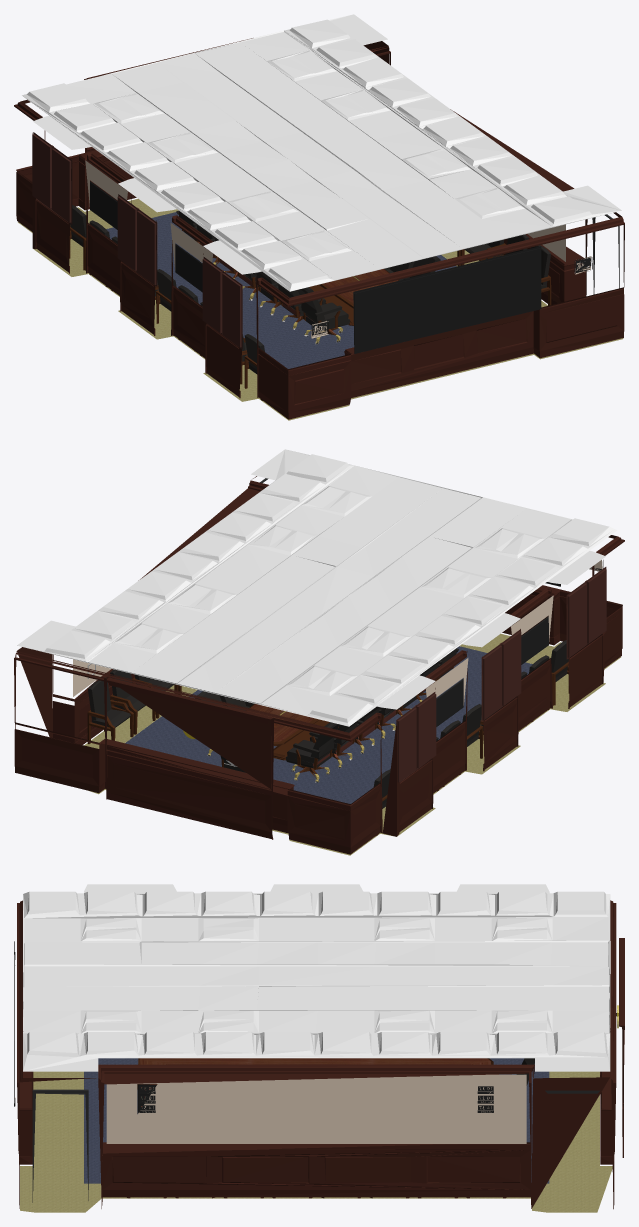
Rendered from SituationRoom.glb.
The picture shows the model from 3 angles, top to bottom: view 1: azimuth 30°, elevation 25°; view 2: azimuth 150°, elevation 25°; view 3: azimuth 270°, elevation 25°; orthographic projection. The views are drawn at different scales.
Parts seen in each view (by area): view 1: __0129_WhiteSmoke_3, _0042_Sienna, _0137_Black, _0040_Peru, __Carpet_Plush_Charcoal_1, __0132_LightGray_2, Carpet_Plush_Charcoal, _0012_Bisque, material_1, _0136_Charcoal, Wood_Grain_Stain3; view 2: __0129_WhiteSmoke_3, _0042_Sienna, __Carpet_Plush_Charcoal_1, _0040_Peru, __0132_LightGray_2, Carpet_Plush_Charcoal, material_1, _0012_Bisque, _0136_Charcoal, Wood_Grain_Stain3; view 3: __0129_WhiteSmoke_3, _0042_Sienna, _0012_Bisque, Carpet_Plush_Charcoal, __Carpet_Plush_Charcoal_1, Wood_Grain_Stain3, _0135_DarkGray, _0136_Charcoal.
Part boxes in pixels (<box>): __0129_WhiteSmoke_3: <box>22,14,621,291</box>; _0042_Sienna: <box>14,38,624,419</box>; _0137_Black: <box>175,244,592,353</box>; _0040_Peru: <box>32,132,242,349</box>; __Carpet_Plush_Charcoal_1: <box>106,212,456,368</box>; __0132_LightGray_2: <box>70,205,550,374</box>; Carpet_Plush_Charcoal: <box>18,198,623,420</box>; _0012_Bisque: <box>85,160,591,338</box>; material_1: <box>69,225,551,400</box>; _0136_Charcoal: <box>90,181,590,335</box>; Wood_Grain_Stain3: <box>324,269,398,303</box>; __0129_WhiteSmoke_3: <box>17,449,616,726</box>; _0042_Sienna: <box>14,476,624,854</box>; __Carpet_Plush_Charcoal_1: <box>125,646,532,803</box>; _0040_Peru: <box>396,567,606,782</box>; __0132_LightGray_2: <box>88,640,568,808</box>; Carpet_Plush_Charcoal: <box>84,633,620,855</box>; material_1: <box>87,662,569,835</box>; _0012_Bisque: <box>73,560,602,705</box>; _0136_Charcoal: <box>436,616,548,726</box>; Wood_Grain_Stain3: <box>247,704,314,741</box>; __0129_WhiteSmoke_3: <box>23,884,610,1071</box>; _0042_Sienna: <box>17,900,624,1209</box>; _0012_Bisque: <box>15,965,526,1143</box>; Carpet_Plush_Charcoal: <box>20,1071,612,1212</box>; __Carpet_Plush_Charcoal_1: <box>84,1058,549,1183</box>; Wood_Grain_Stain3: <box>140,1058,490,1084</box>; _0135_DarkGray: <box>32,1089,599,1202</box>; _0136_Charcoal: <box>139,1086,493,1112</box>.
Size of the model in its own units: 7.34 by 2.64 by 9.98.
41 materials, 6 textured.
